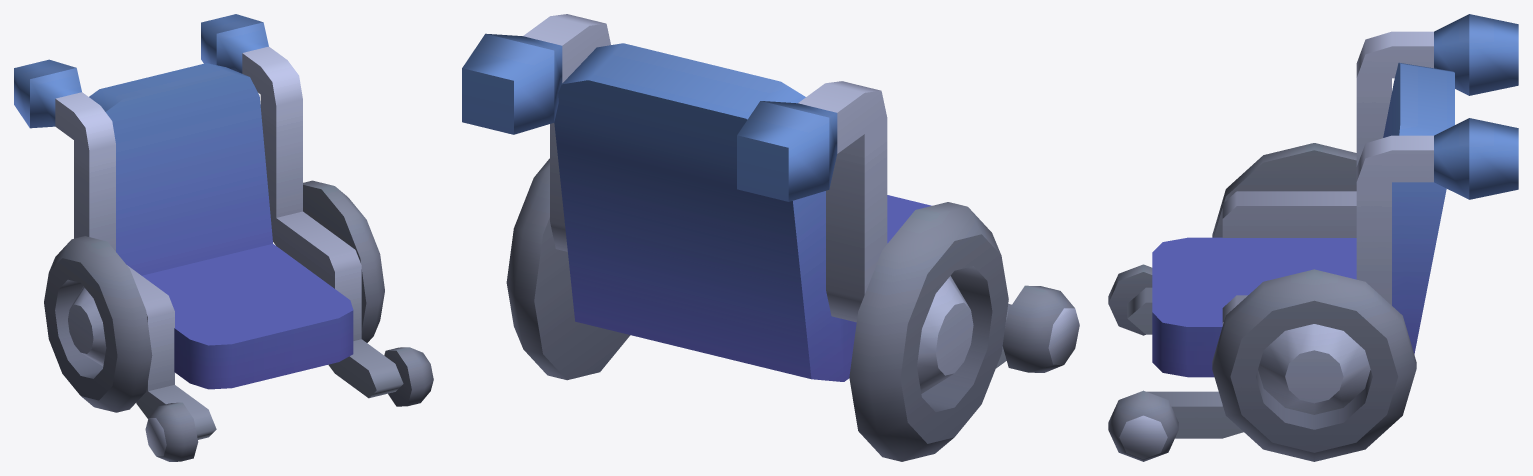
File: k-mini-characters-wheelchair.glb
3 views of the same model, side by side, from view 1: azimuth 30°, elevation 25°; view 2: azimuth 150°, elevation 25°; view 3: azimuth 270°, elevation 25° (orthographic). The views are drawn at different scales.
Parts seen in each view (by area): view 1: wheelchair; view 2: wheelchair; view 3: wheelchair.
Boxes of the visible parts, x1,y1,x2,y2 form: wheelchair: (14, 14, 433, 461); wheelchair: (462, 14, 1079, 461); wheelchair: (1108, 14, 1518, 461).
Bounding box in the file's own units: 0.5 × 0.495 × 0.5824.
1 material, 1 textured.
